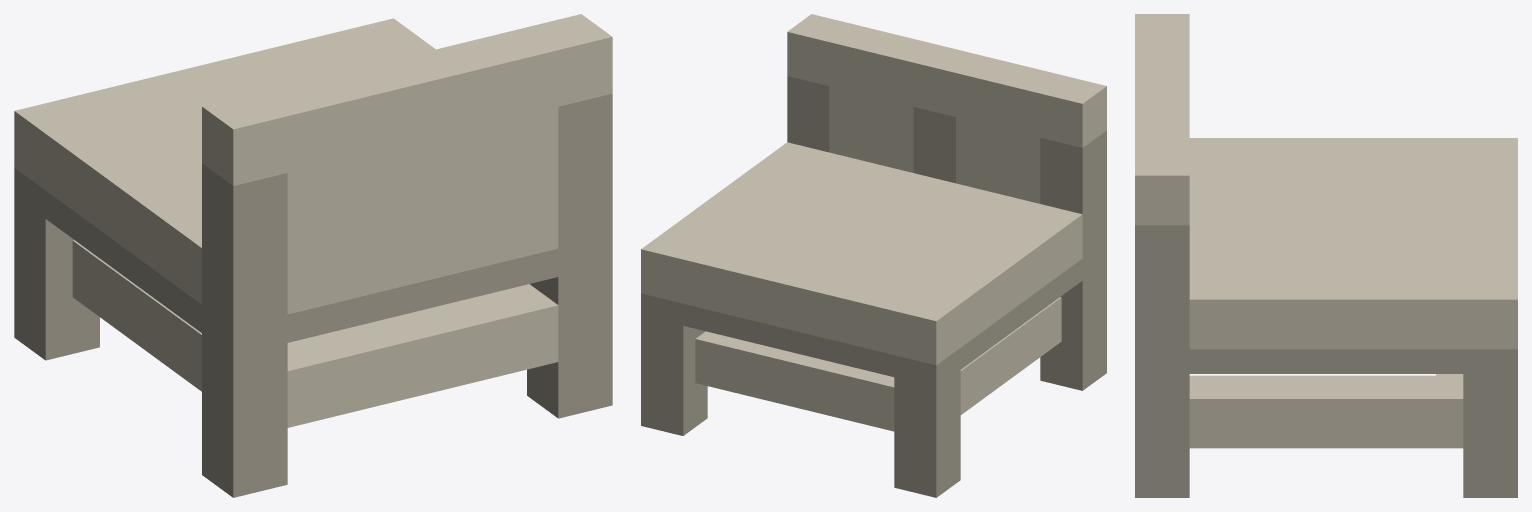
Rendered from reclinatorio_abedul_01.glb.
3 views of the same model, side by side, from view 1: azimuth 30°, elevation 25°; view 2: azimuth 150°, elevation 25°; view 3: azimuth 270°, elevation 25° (orthographic). The views are drawn at different scales.
Visible parts, largest first — view 1: reclinatorio_abedul; view 2: reclinatorio_abedul; view 3: reclinatorio_abedul.
Part boxes in pixels (x1,y1,x2,y2): reclinatorio_abedul: [14, 14, 612, 497]; reclinatorio_abedul: [641, 14, 1106, 497]; reclinatorio_abedul: [1135, 14, 1517, 497].
Bounding box in the file's own units: 1 × 0.9286 × 1.
